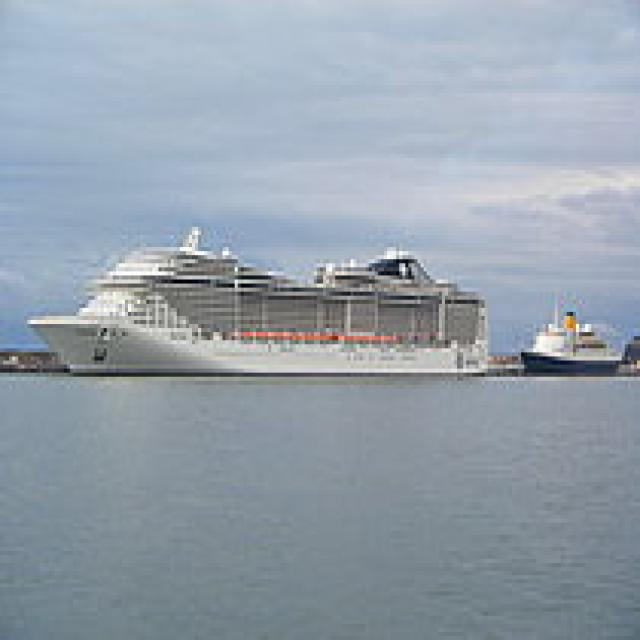Cruise: (21, 218, 488, 376), (518, 288, 619, 377)
